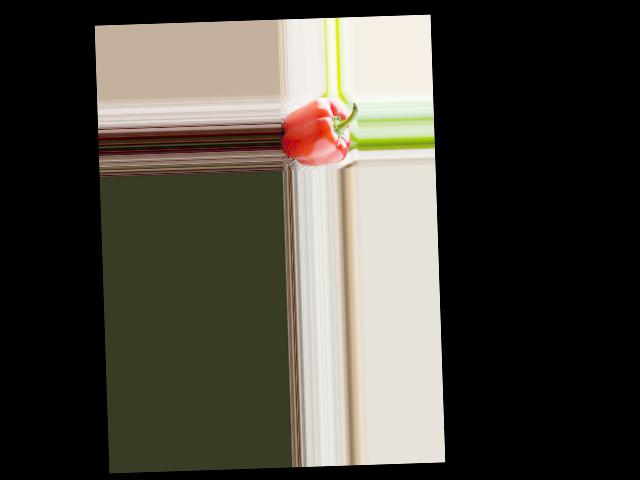bell_pepper: (279, 94, 357, 165)
